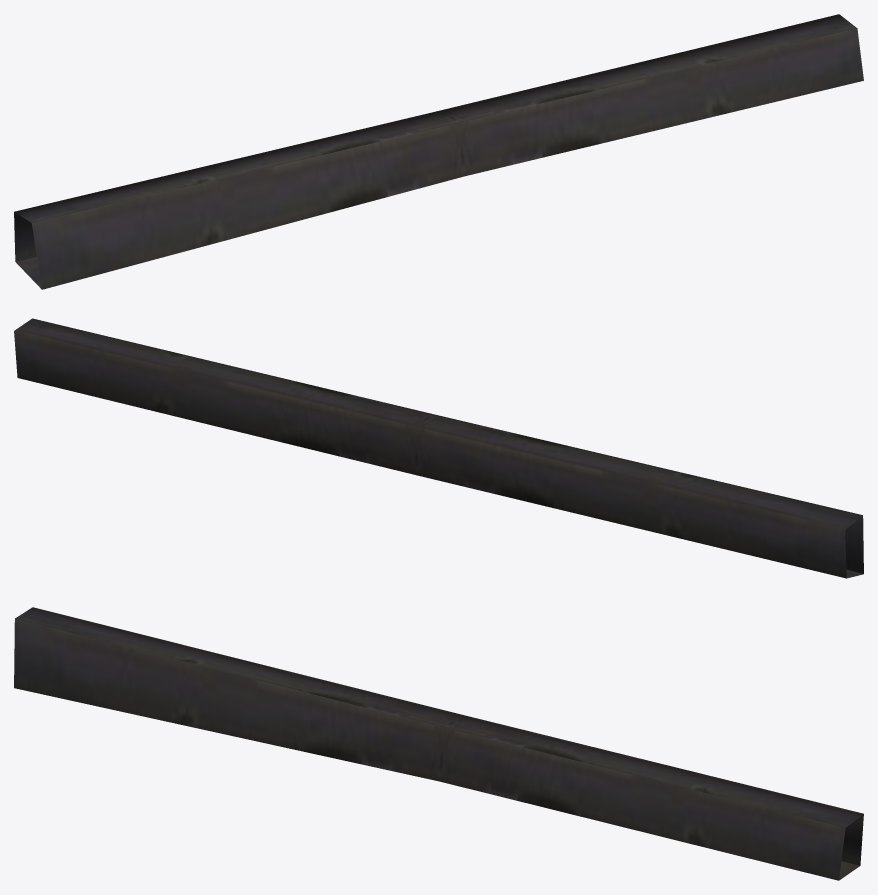
File: Battle05_Other_07.FBX
3 renders of one model, top to bottom at view 1: azimuth 30°, elevation 25°; view 2: azimuth 150°, elevation 25°; view 3: azimuth 330°, elevation 25°, orthographic.
Visible parts, largest first — view 1: Battle05_Other_07; view 2: Battle05_Other_07; view 3: Battle05_Other_07.
Boxes of the visible parts, x1,y1,x2,y2 form: Battle05_Other_07: (14,14,863,289); Battle05_Other_07: (14,318,863,578); Battle05_Other_07: (14,607,863,880).
Size of the model in its own units: 25.57 by 1.89 by 1.33.
